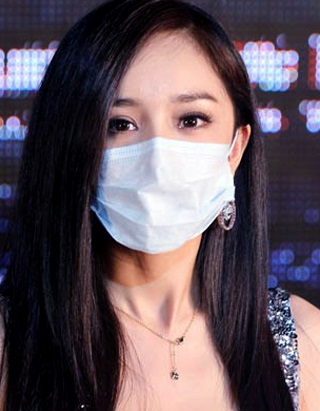face_mask: (97, 51, 229, 254)
